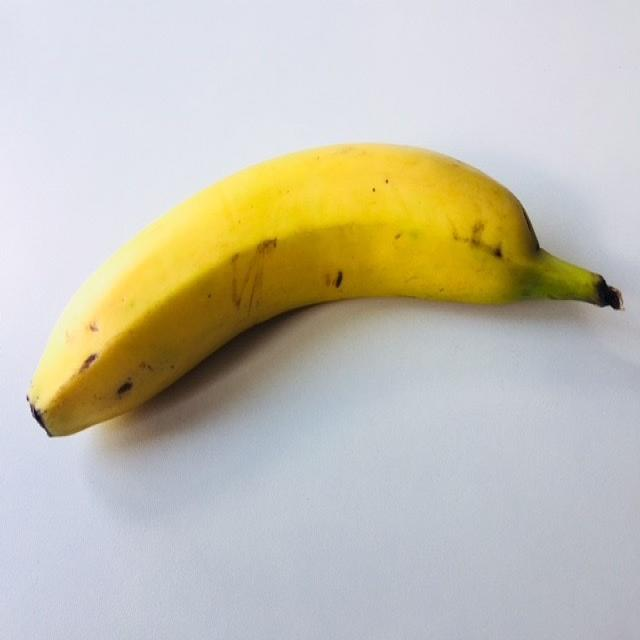Banana: (24, 143, 636, 448)
